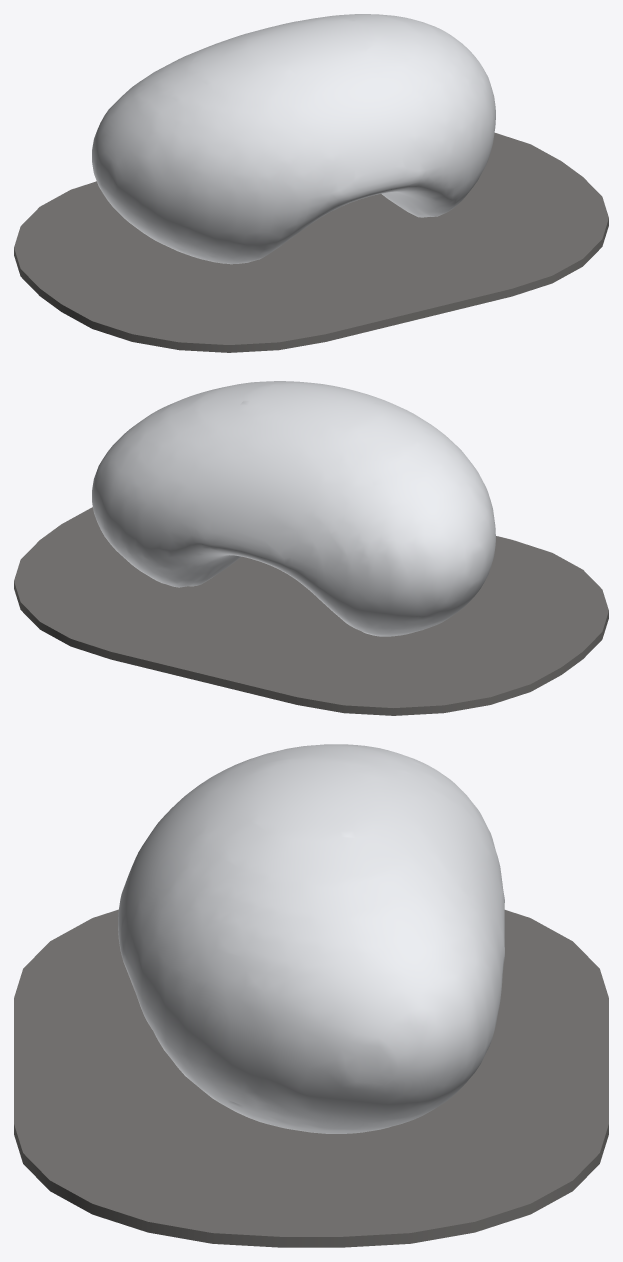
File: mirrored_sculpture.glb
The picture shows the model from 3 angles, top to bottom: view 1: azimuth 30°, elevation 25°; view 2: azimuth 150°, elevation 25°; view 3: azimuth 270°, elevation 25°; orthographic projection. The views are drawn at different scales.
Visible parts, largest first — view 1: mirrored_sculpture; view 2: mirrored_sculpture; view 3: mirrored_sculpture.
Part boxes in pixels (left/top/right/bottom): mirrored_sculpture: left=14, top=14, right=608, bottom=352; mirrored_sculpture: left=14, top=381, right=608, bottom=715; mirrored_sculpture: left=14, top=744, right=608, bottom=1247.
Size of the model in its own units: 28 by 10.4 by 20.
1 material, 1 textured.
